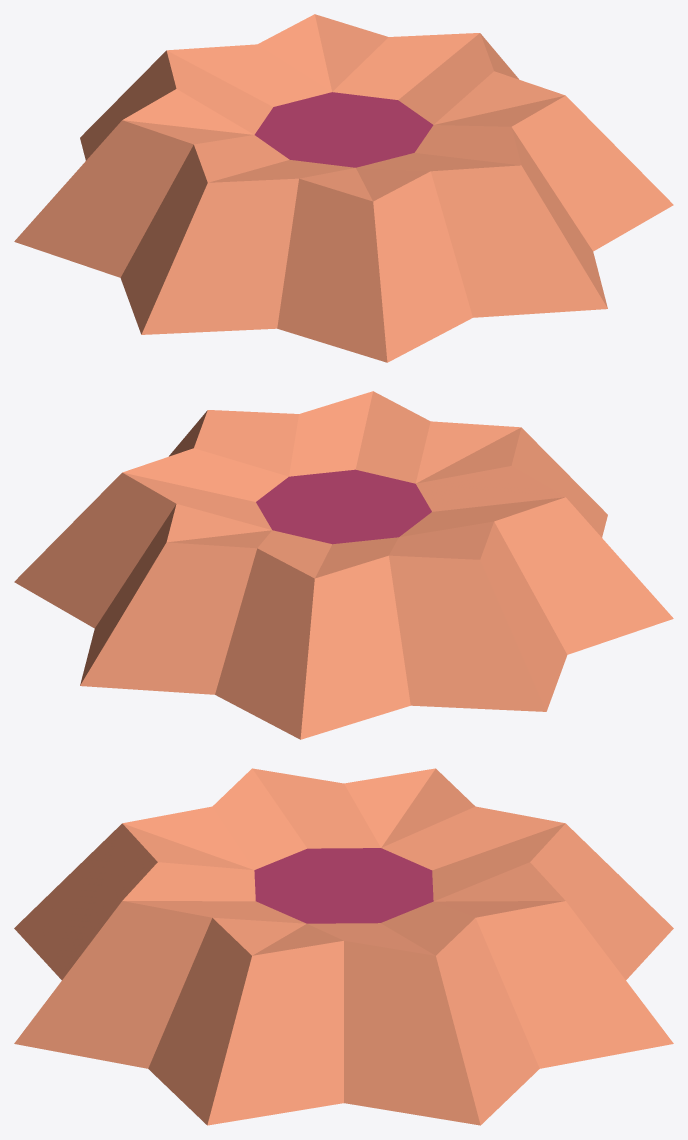
File: Kurabye.fbx
The picture shows the model from 3 angles, top to bottom: view 1: azimuth 30°, elevation 25°; view 2: azimuth 150°, elevation 25°; view 3: azimuth 270°, elevation 25°; orthographic projection. The views are drawn at different scales.
Visible parts, largest first — view 1: Kurabye; view 2: Kurabye; view 3: Kurabye.
Boxes of the visible parts, x1,y1,x2,y2 form: Kurabye: (14, 14, 673, 362); Kurabye: (14, 391, 673, 739); Kurabye: (14, 768, 673, 1125).
Size of the model in its own units: 55.67 by 11.54 by 55.67.
